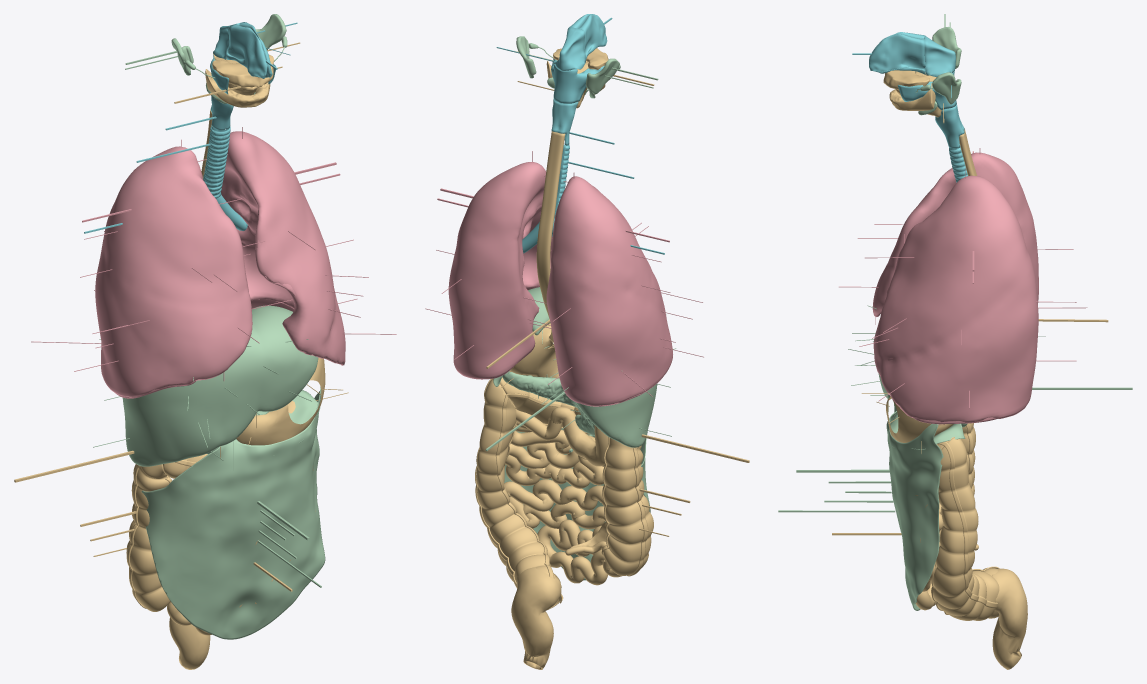
File: visceral.glb
3 views of the same model, side by side, from view 1: azimuth 30°, elevation 25°; view 2: azimuth 150°, elevation 25°; view 3: azimuth 270°, elevation 25° (orthographic). The views are drawn at different scales.
Visible parts, largest first — view 1: Pleura, Greater omentum, Liver, Ascending colon, Stomach, Gingiva, Mucosa of nasal cavity, Sigmoid colon, Trachea, Mesocolon, Parotid gland.l, Mesocolic taenia (+1 smaller); view 2: Pleura, Jejunum, Descending colon, Ascending colon, Sigmoid colon, Liver, Oesophagus, Duodenum, Pancreas, Stomach, Free taenia, Oropharynx (+8 smaller); view 3: Pleura, Greater omentum, Descending colon, Sigmoid colon, Mucosa of nasal cavity, Gingiva, Mesocolic taenia, Nasopharynx, Stomach, Laryngopharynx, Parotid gland.l, Oropharynx (+1 smaller).
Part boxes in pixels (box(x1,y1,x2,y2)): Pleura: box(95, 131, 345, 397); Greater omentum: box(141, 387, 325, 639); Liver: box(122, 305, 318, 466); Ascending colon: box(126, 464, 170, 611); Stomach: box(236, 357, 325, 445); Gingiva: box(205, 54, 274, 107); Mucosa of nasal cavity: box(226, 22, 272, 78); Sigmoid colon: box(169, 617, 210, 669); Trachea: box(203, 126, 230, 198); Mesocolon: box(288, 390, 320, 443); Parotid gland.l: box(255, 14, 286, 50); Mesocolic taenia: box(126, 460, 195, 608); Pleura: box(448, 162, 672, 406); Jejunum: box(504, 409, 621, 585); Descending colon: box(476, 378, 561, 609); Ascending colon: box(603, 438, 653, 575); Sigmoid colon: box(511, 567, 561, 669); Liver: box(528, 287, 657, 447); Oesophagus: box(536, 131, 565, 342); Duodenum: box(549, 407, 609, 466); Pancreas: box(502, 372, 594, 435); Stomach: box(509, 323, 559, 378); Free taenia: box(495, 393, 610, 578); Oropharynx: box(551, 58, 604, 103); Pleura: box(872, 152, 1038, 422); Greater omentum: box(886, 403, 943, 610); Descending colon: box(933, 437, 999, 620); Sigmoid colon: box(992, 568, 1027, 669); Mucosa of nasal cavity: box(869, 32, 925, 74); Gingiva: box(883, 70, 935, 110); Mesocolic taenia: box(937, 442, 997, 608); Nasopharynx: box(924, 35, 955, 76); Stomach: box(886, 396, 953, 442); Laryngopharynx: box(935, 104, 964, 148); Parotid gland.l: box(932, 72, 961, 104); Oropharynx: box(898, 71, 956, 109).
Size of the model in its own units: 0.4261 by 0.7938 by 0.4012.
